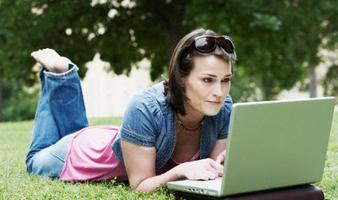person: (31, 30, 235, 194)
